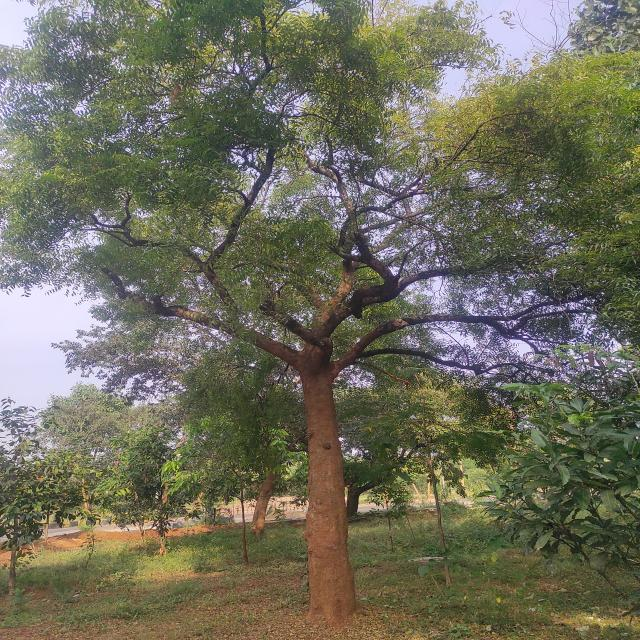Neem Tree: (1, 1, 640, 383)
